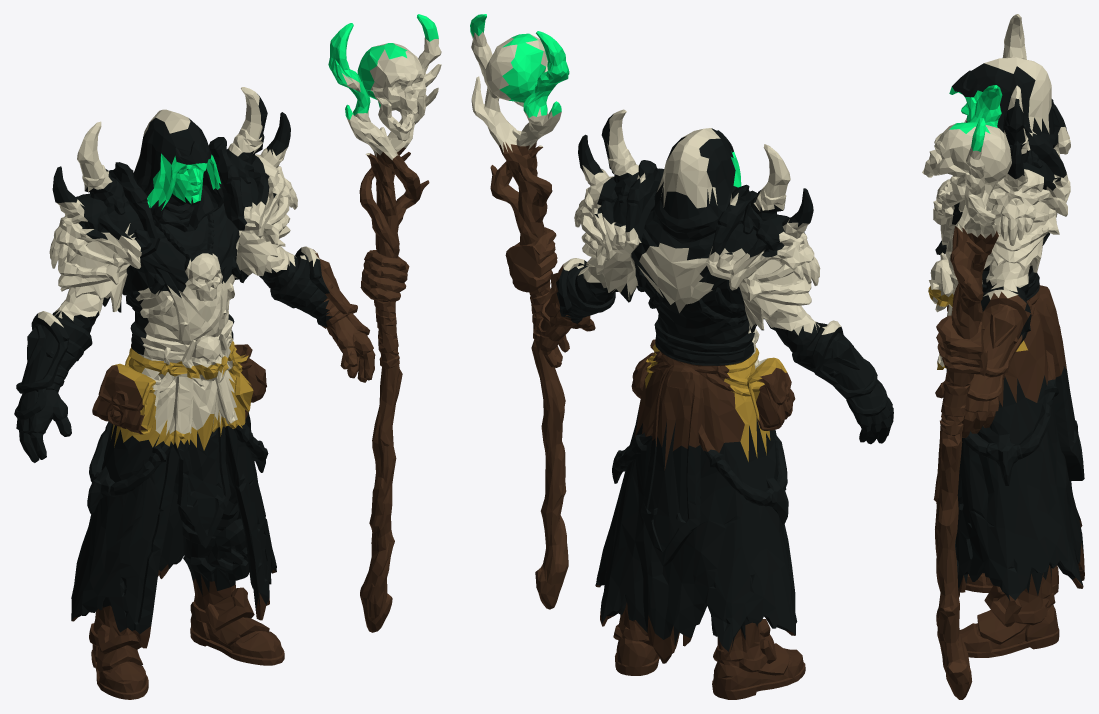
Rendered from necromancer.obj.
3 renders of one model, left to right at view 1: azimuth 30°, elevation 25°; view 2: azimuth 150°, elevation 25°; view 3: azimuth 270°, elevation 25°, orthographic. The views are drawn at different scales.
Parts seen in each view (by area): view 1: Mesh_0; view 2: Mesh_0; view 3: Mesh_0.
Boxes of the visible parts, <box> form: Mesh_0: <box>14,14,441,699</box>; Mesh_0: <box>470,14,893,699</box>; Mesh_0: <box>922,14,1084,699</box>.
Bounding box in the file's own units: 1.51 × 2.05 × 0.4941.
